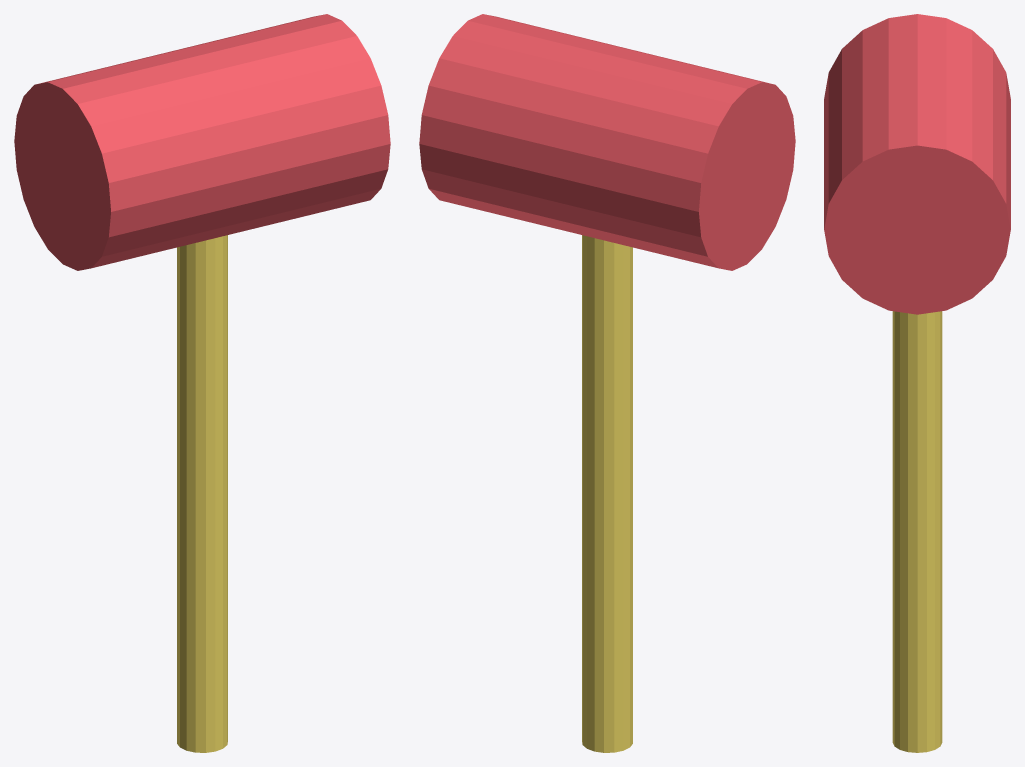
Rendered from hammer.glb.
The picture shows the model from 3 angles, left to right: view 1: azimuth 30°, elevation 25°; view 2: azimuth 150°, elevation 25°; view 3: azimuth 270°, elevation 25°; orthographic projection. The views are drawn at different scales.
Parts seen in each view (by area): view 1: hammer; view 2: hammer; view 3: hammer.
Part boxes in pixels (left/top/right/bottom): hammer: left=14, top=14, right=390, bottom=752; hammer: left=419, top=14, right=795, bottom=752; hammer: left=824, top=14, right=1010, bottom=752.
Size of the model in its own units: 0.2 by 0.47 by 0.12.
